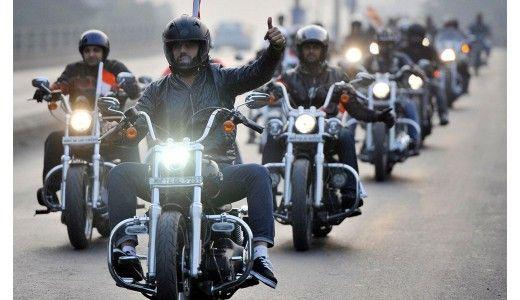helmet: (154, 12, 217, 68), (295, 21, 332, 71), (72, 24, 112, 69)
